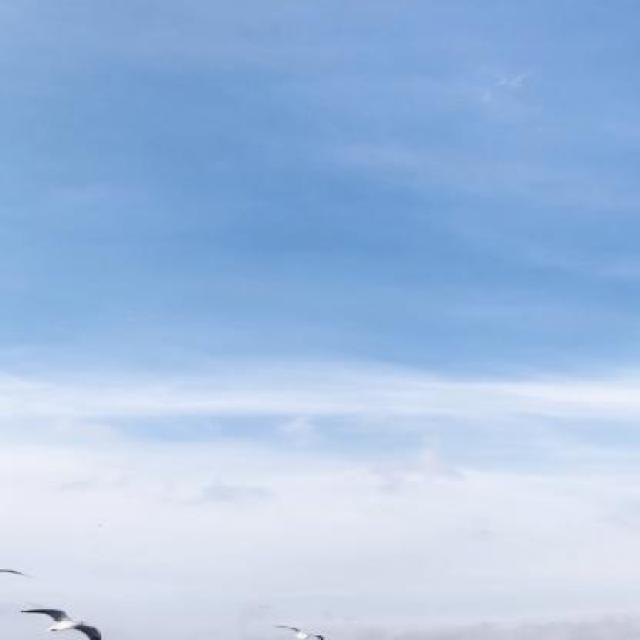bird: (15, 608, 114, 638), (271, 623, 332, 639)
